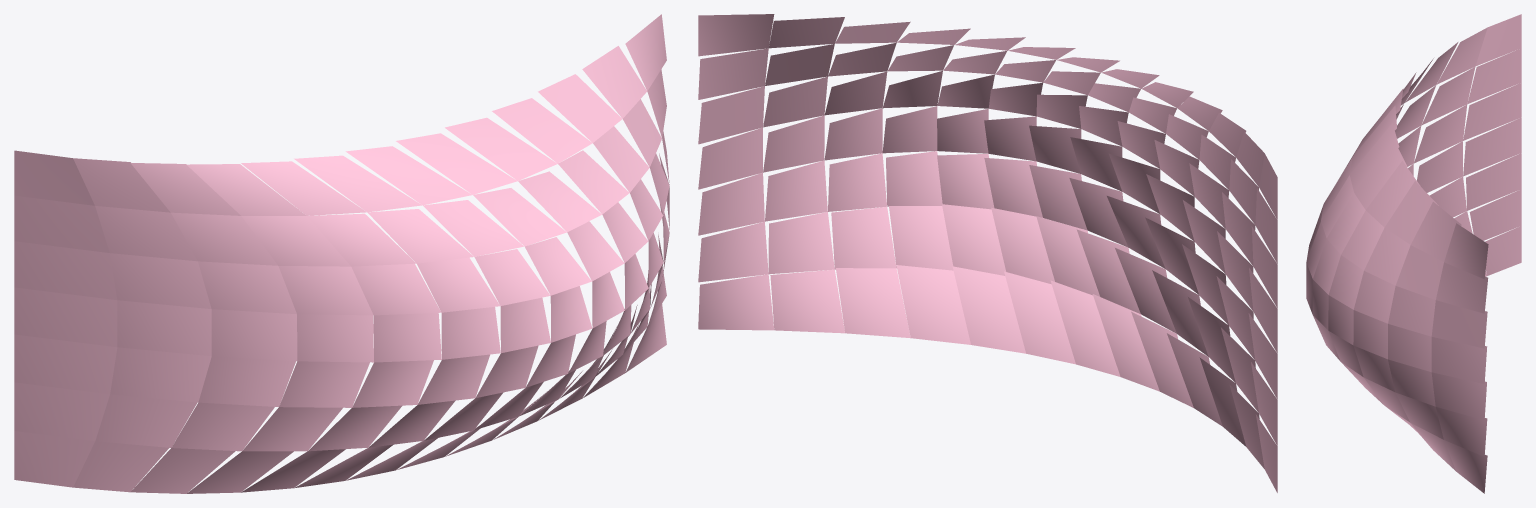
Rendered from screen001.glb.
The picture shows the model from 3 angles, left to right: view 1: azimuth 30°, elevation 25°; view 2: azimuth 150°, elevation 25°; view 3: azimuth 270°, elevation 25°; orthographic projection. The views are drawn at different scales.
Visible parts, largest first — view 1: [0]; view 2: [0]; view 3: [0].
Part boxes in pixels (bbox=[...]): [0]: bbox=[14, 14, 669, 493]; [0]: bbox=[698, 14, 1277, 492]; [0]: bbox=[1306, 14, 1521, 493].
Size of the model in its own units: 4.78 by 2.39 by 1.88.
